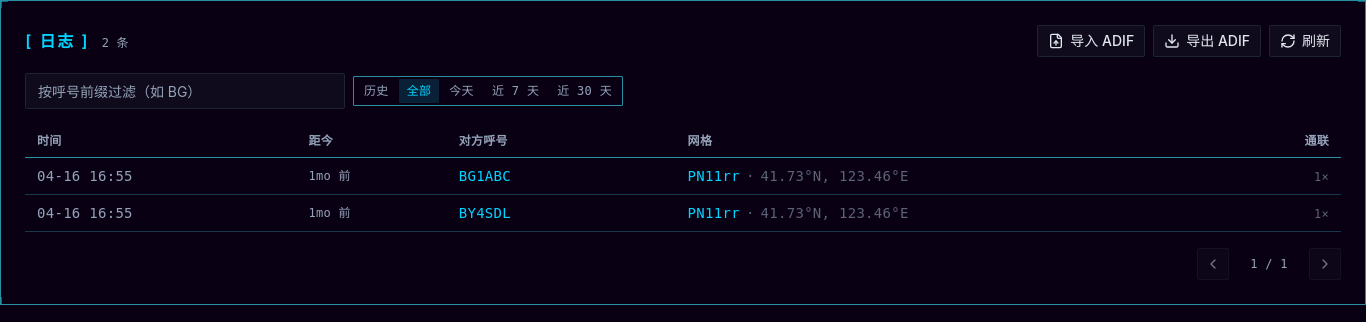
LogsView · 已连接 › 过滤生效且显示 n / total
Type "BG" into the field named "过滤呼号".
click(185, 91); type("BG")  # box [25, 73, 345, 109]
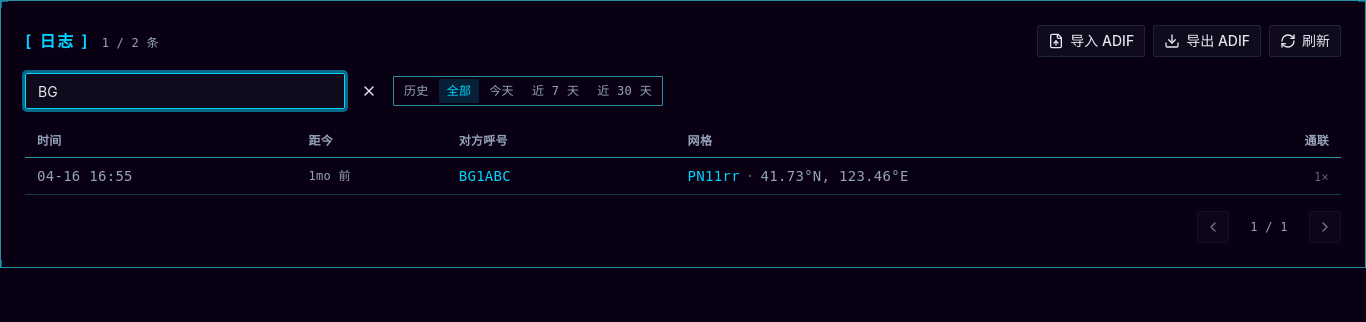
Expected: the text "1 / 2 条" is shown, [102, 35, 159, 51]
